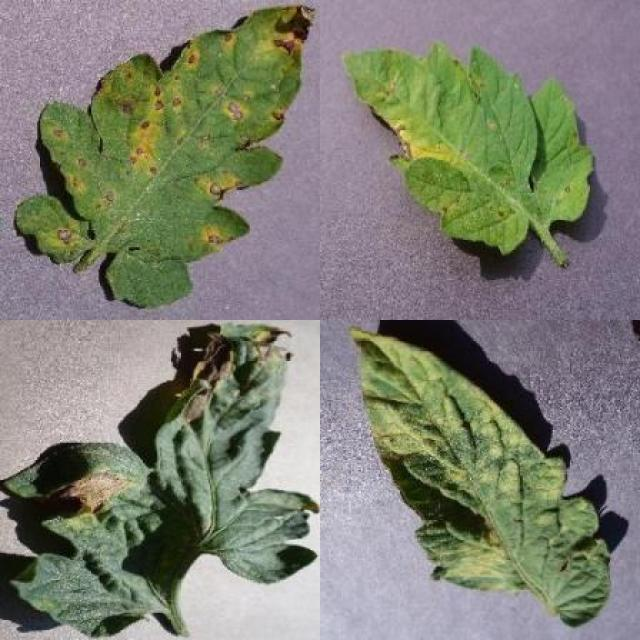Early Blight: (0, 323, 320, 640)
Leaf Mold: (348, 327, 613, 627)
Septoria: (14, 5, 315, 309), (342, 46, 598, 256)
